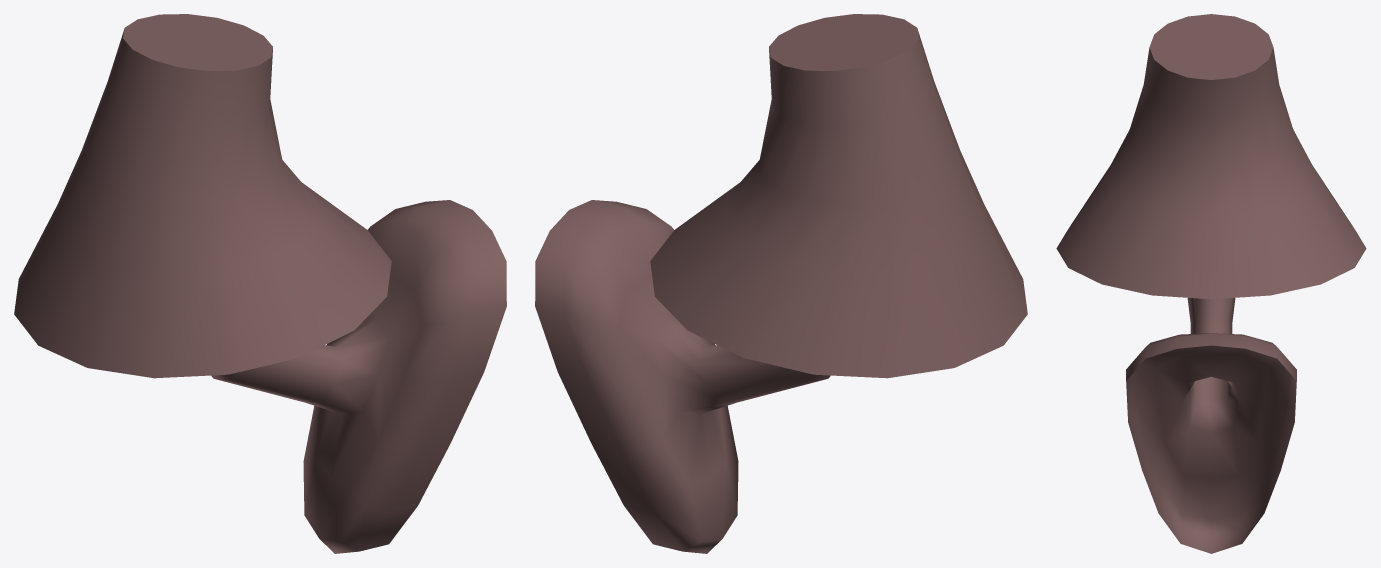
File: SM_WallLight_003.fbx
3 views of the same model, side by side, from view 1: azimuth 30°, elevation 25°; view 2: azimuth 150°, elevation 25°; view 3: azimuth 270°, elevation 25° (orthographic). The views are drawn at different scales.
Parts seen in each view (by area): view 1: WallLamp; view 2: WallLamp; view 3: WallLamp.
Boxes of the visible parts, x1,y1,x2,y2 form: WallLamp: (14,14,506,553); WallLamp: (535,14,1027,553); WallLamp: (1056,14,1366,553).
Size of the model in its own units: 48.27 by 58.76 by 36.84.
